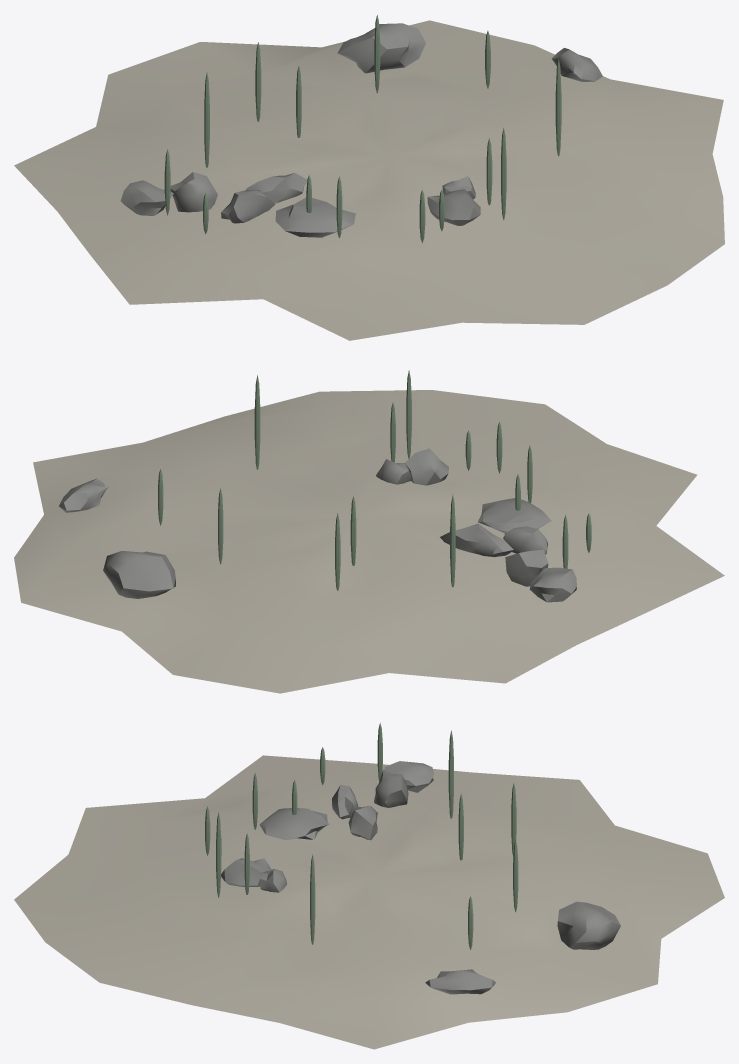
Rendered from seabed_patch.gltf.
3 renders of one model, top to bottom at view 1: azimuth 30°, elevation 25°; view 2: azimuth 150°, elevation 25°; view 3: azimuth 270°, elevation 25°, orthographic. The views are drawn at different scales.
Visible parts, largest first — view 1: Body; view 2: Body; view 3: Body.
Boxes of the visible parts, x1,y1,x2,y2 form: Body: [14, 15, 724, 340]; Body: [14, 370, 724, 693]; Body: [14, 723, 724, 1049].
Bounding box in the file's own units: 14.98 × 2.56 × 15.23.
